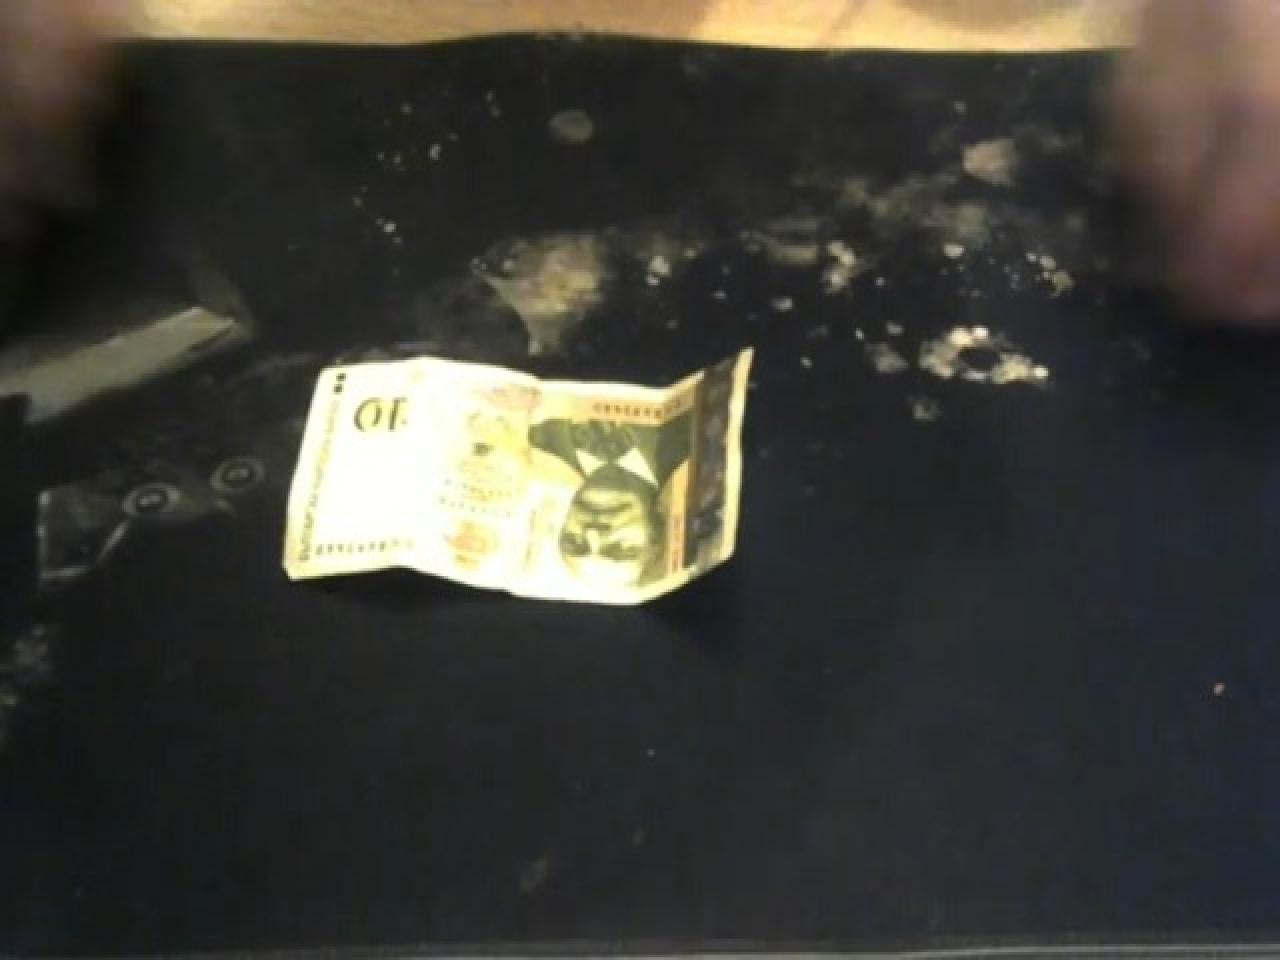10leva: (344, 387, 418, 473)
